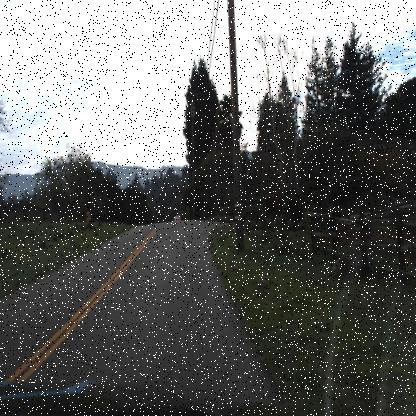car: (170, 209, 185, 227), (172, 210, 182, 224)
